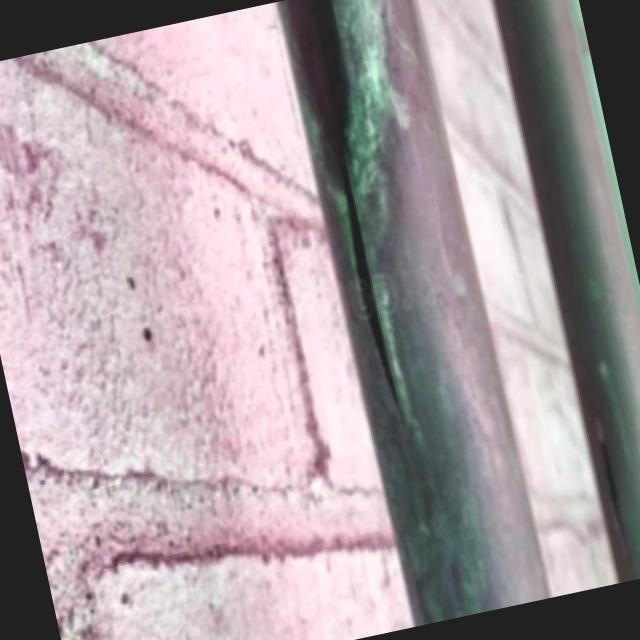Hole: (302, 125, 458, 420)
